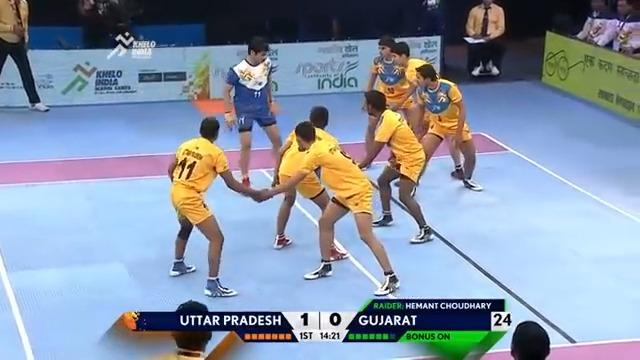Player: (252, 118, 401, 297), (164, 114, 267, 298), (353, 88, 434, 244), (409, 62, 485, 193), (358, 36, 408, 112)
Raider: (220, 35, 285, 187)
referee: (0, 0, 50, 112), (463, 0, 506, 77), (77, 0, 128, 48)
